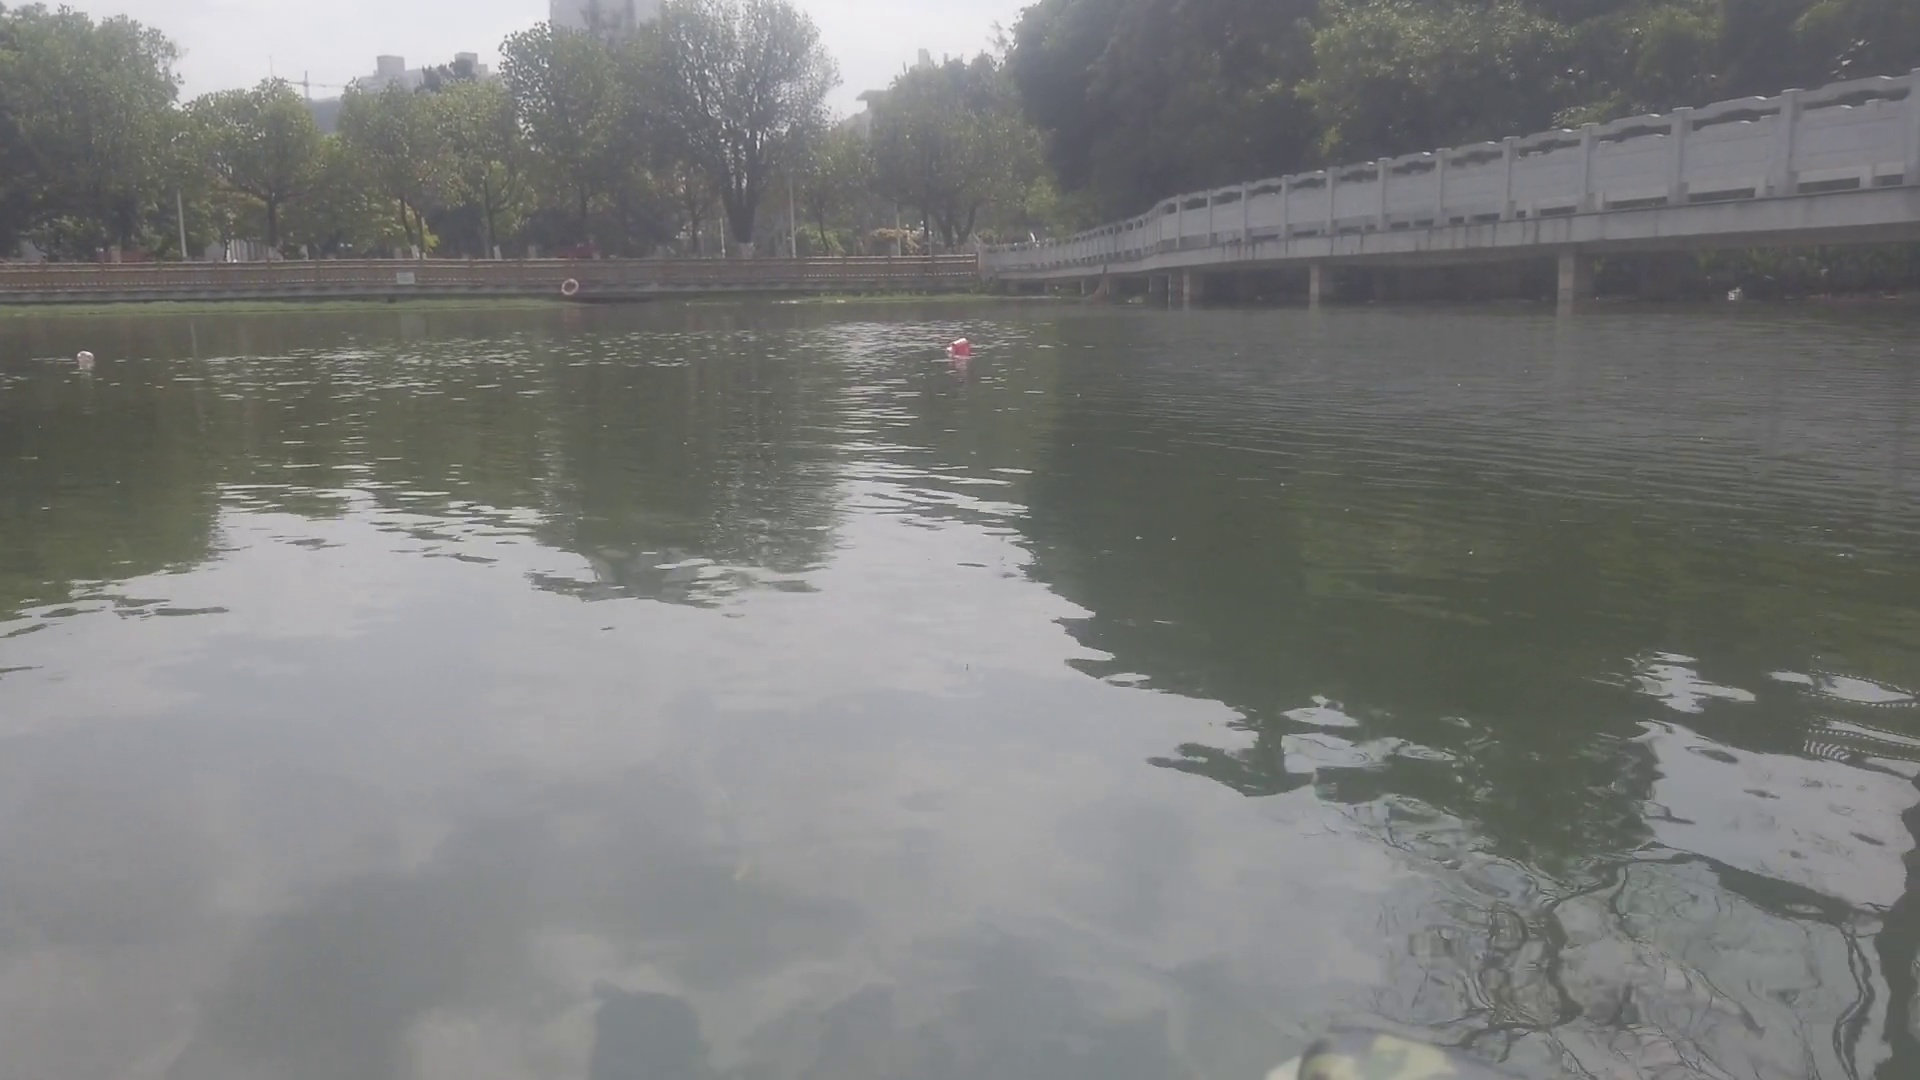bottle: (944, 338, 971, 355), (74, 345, 94, 360)
